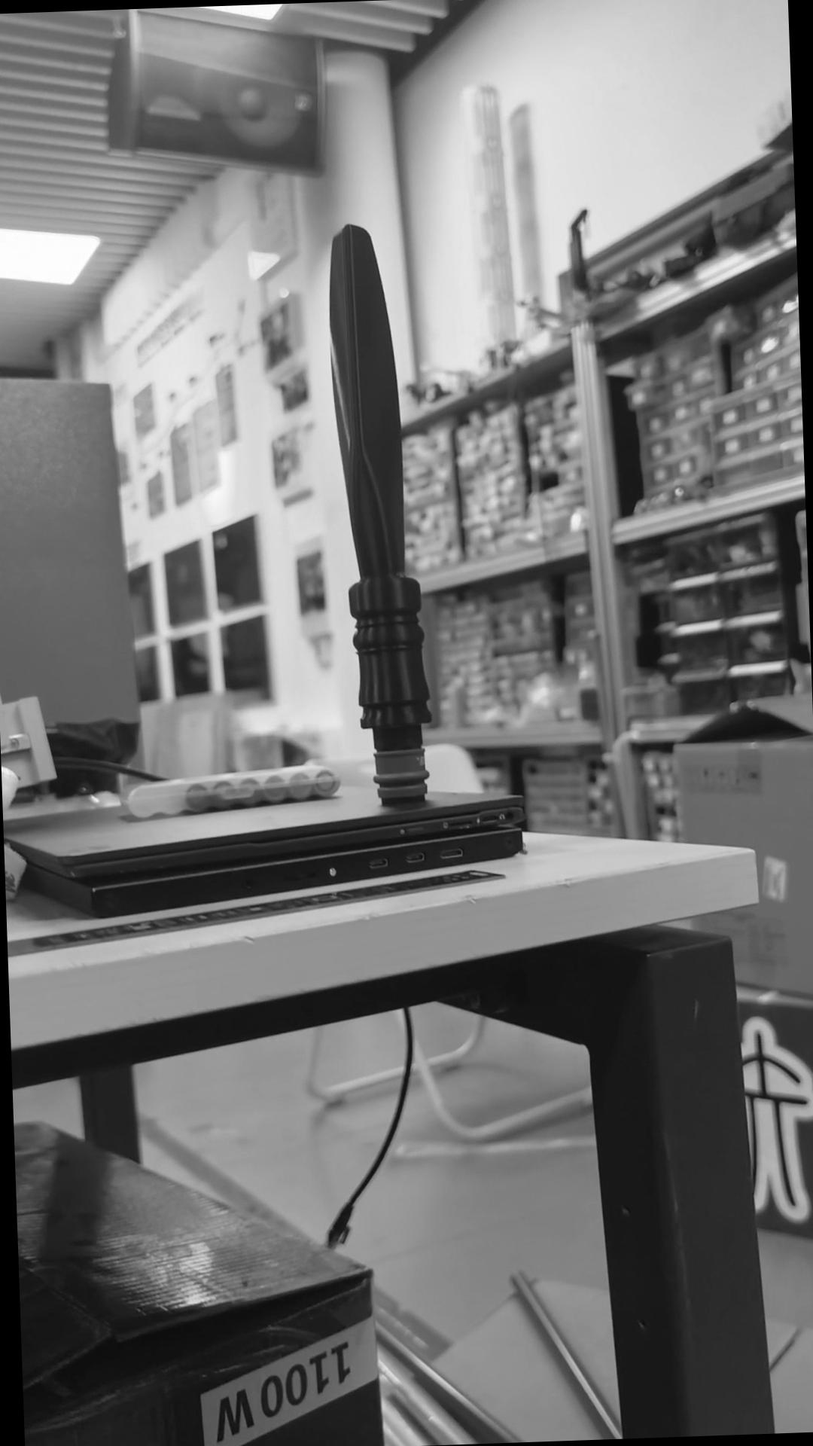base: (360, 740, 440, 811)
